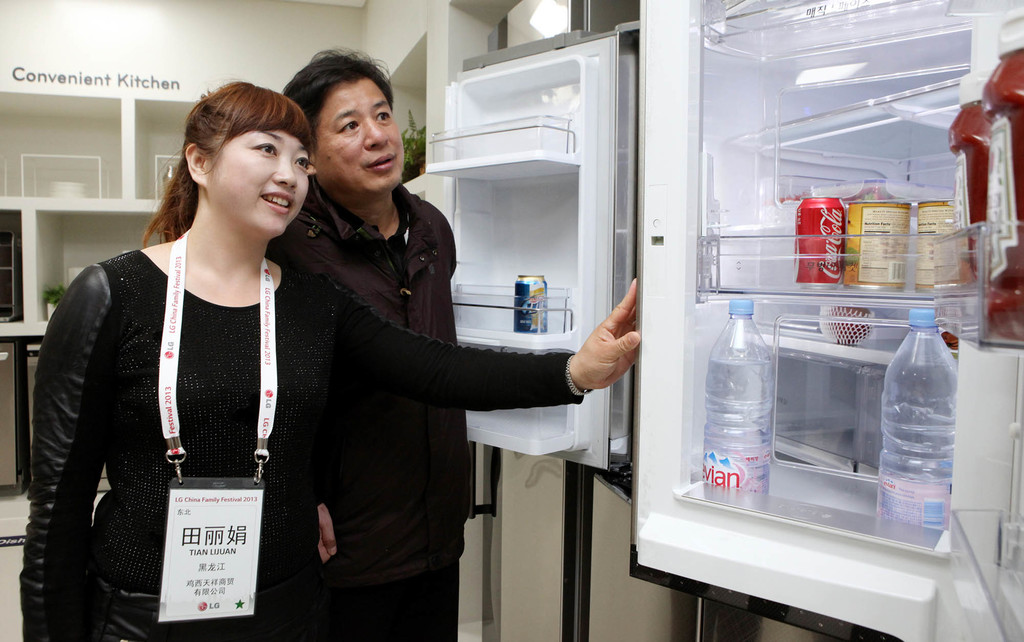refrigerator door: (647, 30, 974, 604), (447, 72, 615, 450)
